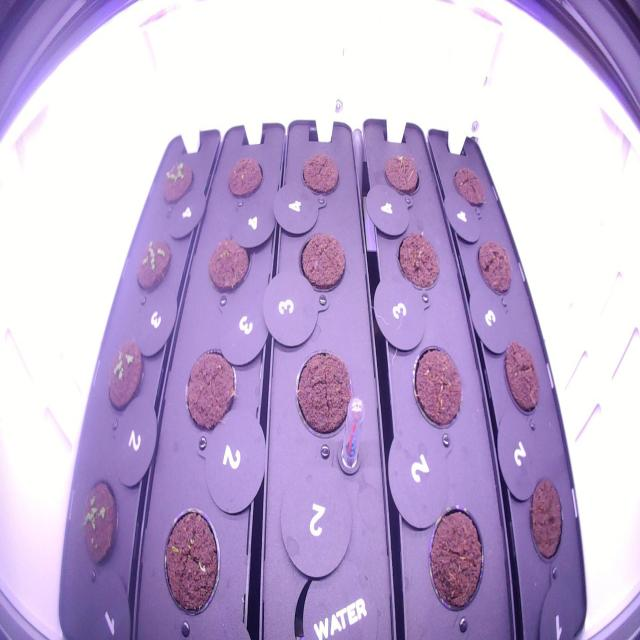germination: (76, 472, 127, 578), (100, 329, 150, 418), (132, 230, 176, 303), (156, 154, 196, 210)
pod: (155, 498, 227, 623), (424, 498, 490, 622), (292, 342, 358, 452), (406, 337, 468, 438), (180, 340, 240, 438), (522, 468, 568, 577), (498, 334, 544, 427), (293, 226, 350, 298), (392, 224, 442, 297), (203, 228, 254, 298), (472, 233, 517, 306), (295, 147, 343, 205), (379, 146, 425, 206), (447, 157, 490, 215), (222, 150, 266, 206)
